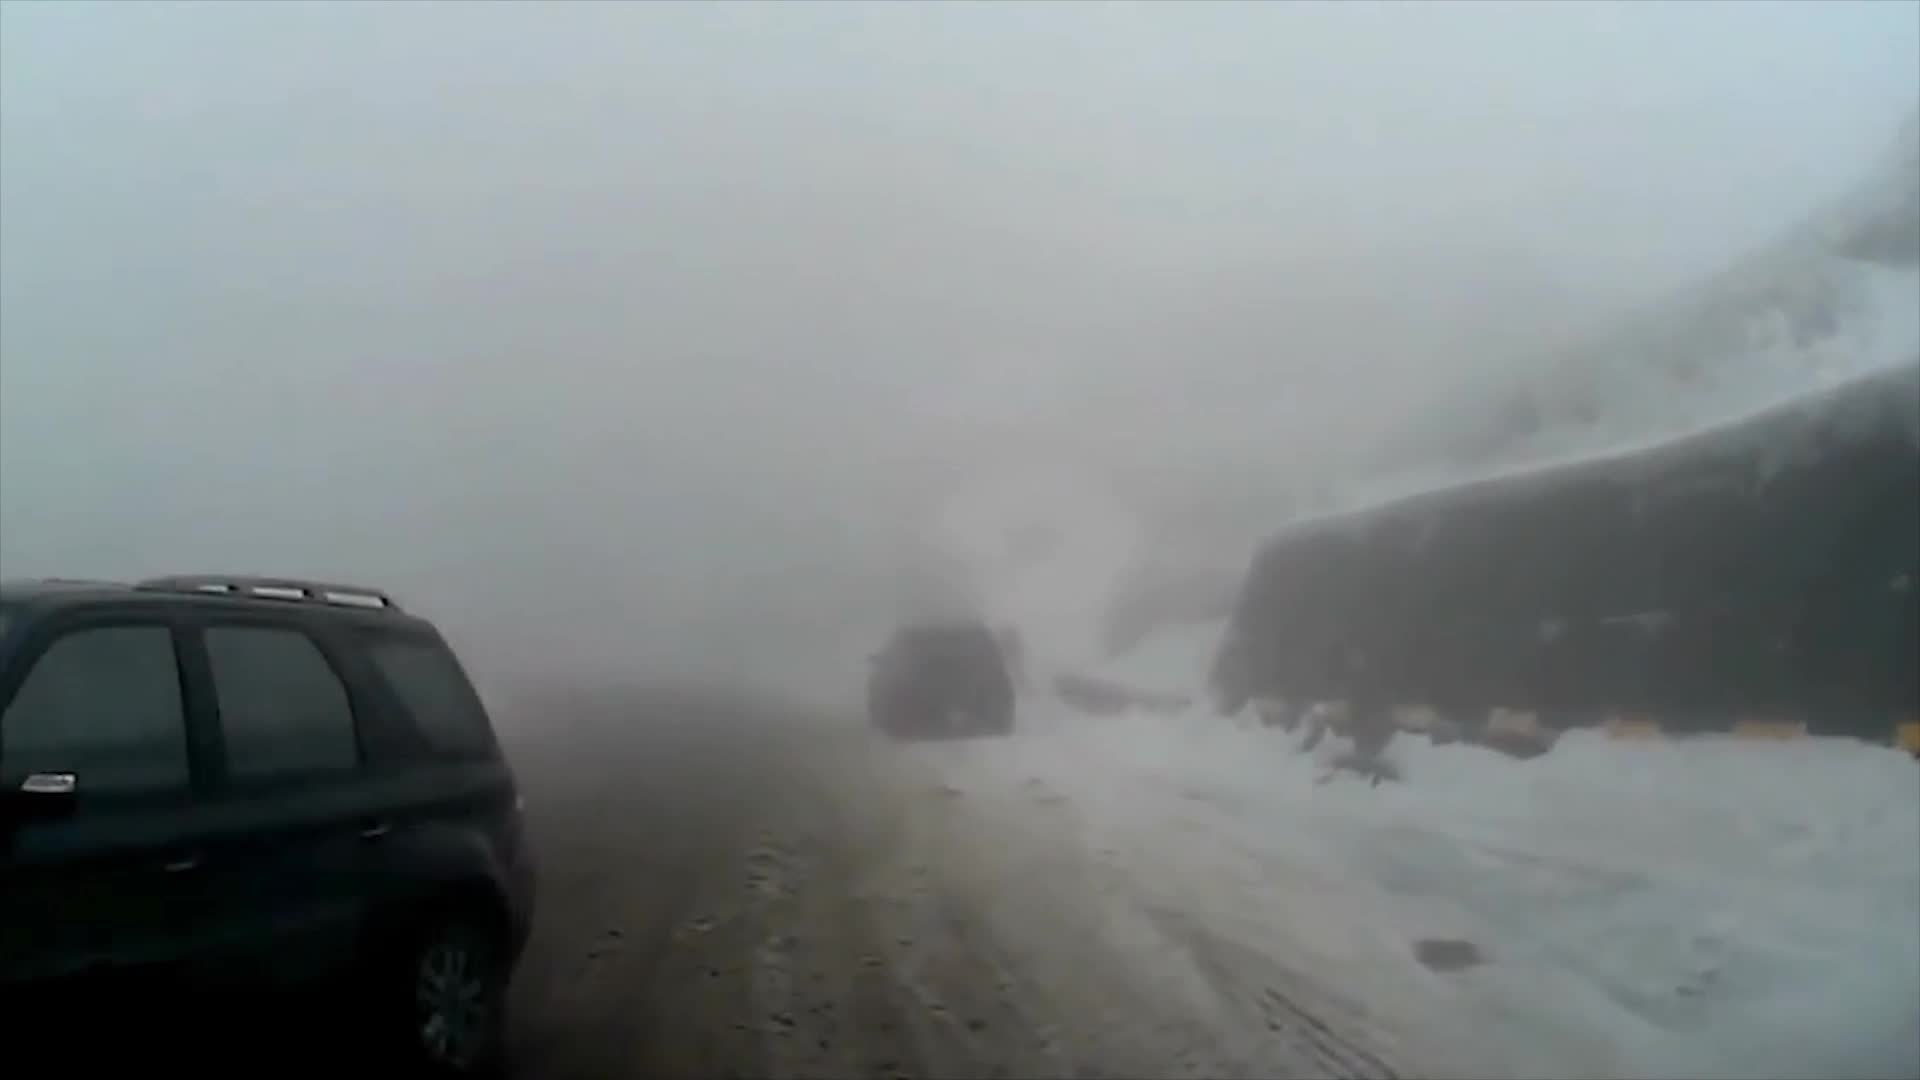vehicle: (0, 571, 537, 1080), (861, 617, 1011, 746)
